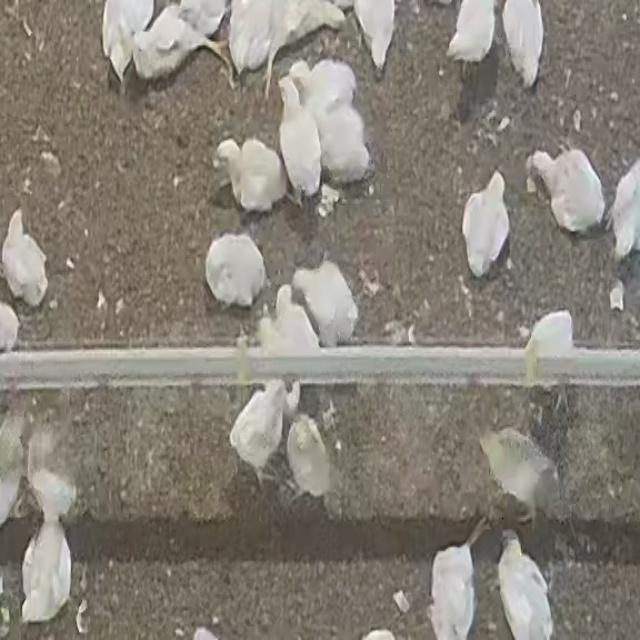chicken: (480, 428, 560, 527), (229, 380, 296, 487), (232, 0, 342, 64), (530, 148, 608, 236), (496, 532, 554, 640), (428, 523, 481, 640), (293, 260, 357, 344), (461, 169, 509, 279), (21, 521, 73, 622), (132, 12, 200, 87), (204, 232, 266, 310), (1, 209, 48, 308), (275, 85, 316, 197), (261, 287, 321, 363), (286, 414, 334, 502), (218, 140, 281, 207), (522, 310, 575, 389), (100, 0, 149, 80), (445, 1, 497, 75), (315, 105, 367, 178), (502, 0, 545, 87), (609, 155, 640, 263), (1, 409, 28, 533), (293, 60, 352, 106), (356, 0, 396, 65), (179, 0, 230, 36), (1, 299, 20, 351)
